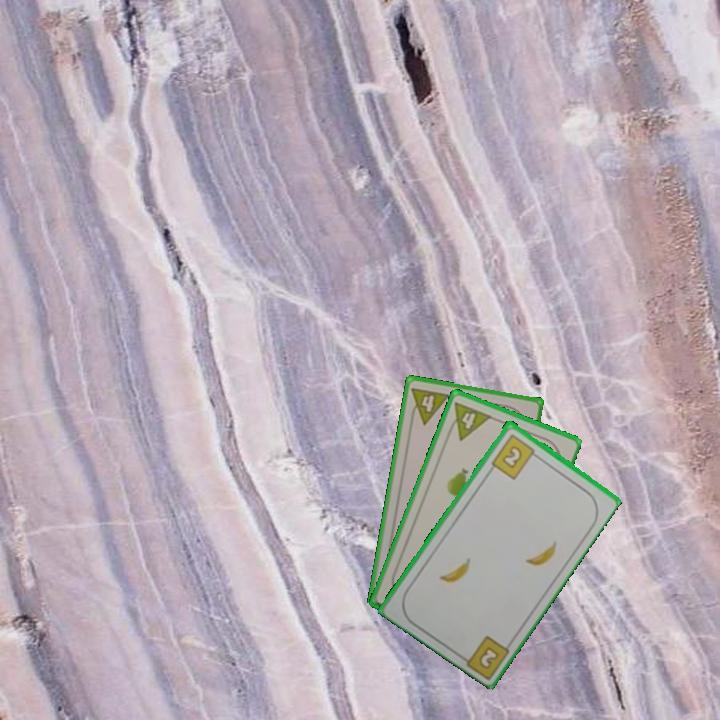2b: (488, 430, 542, 482), (475, 642, 502, 672)
4p: (443, 398, 494, 443), (406, 383, 453, 427)
